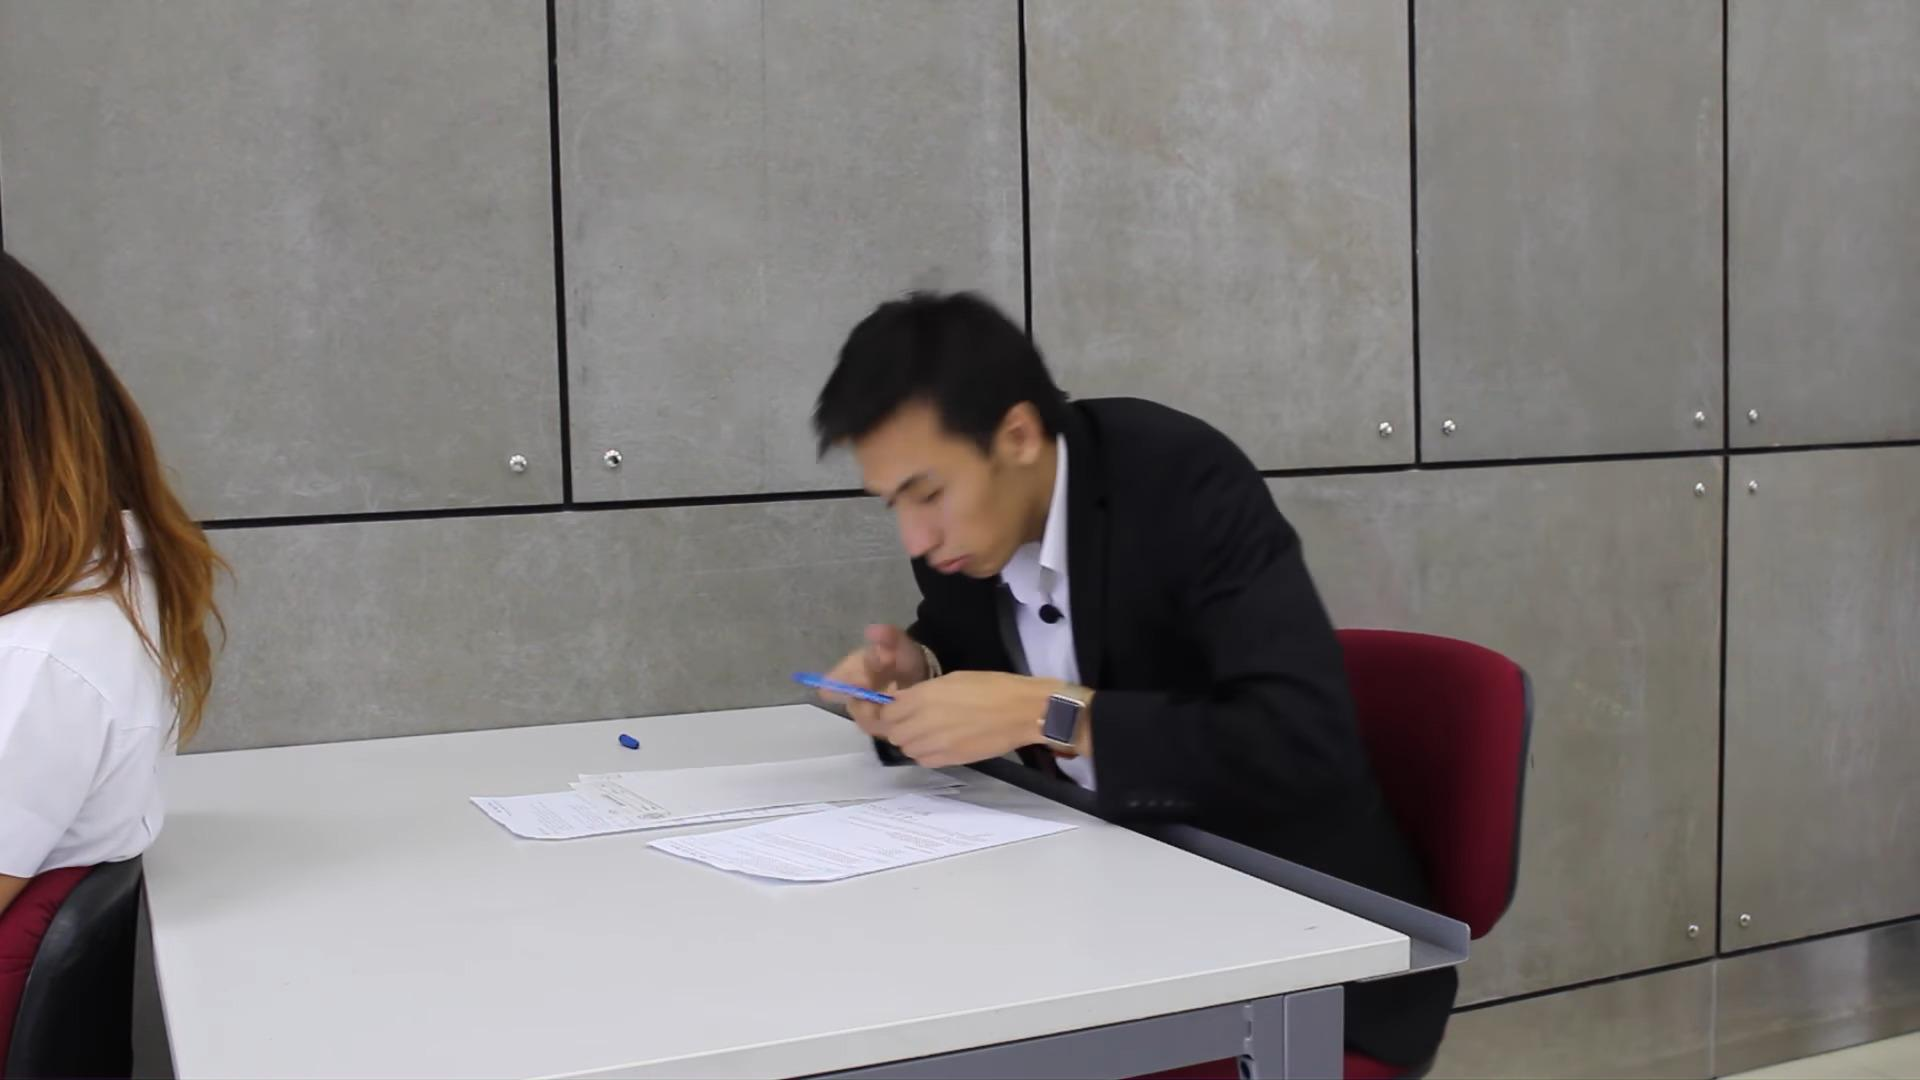good: (446, 236, 1436, 899)
